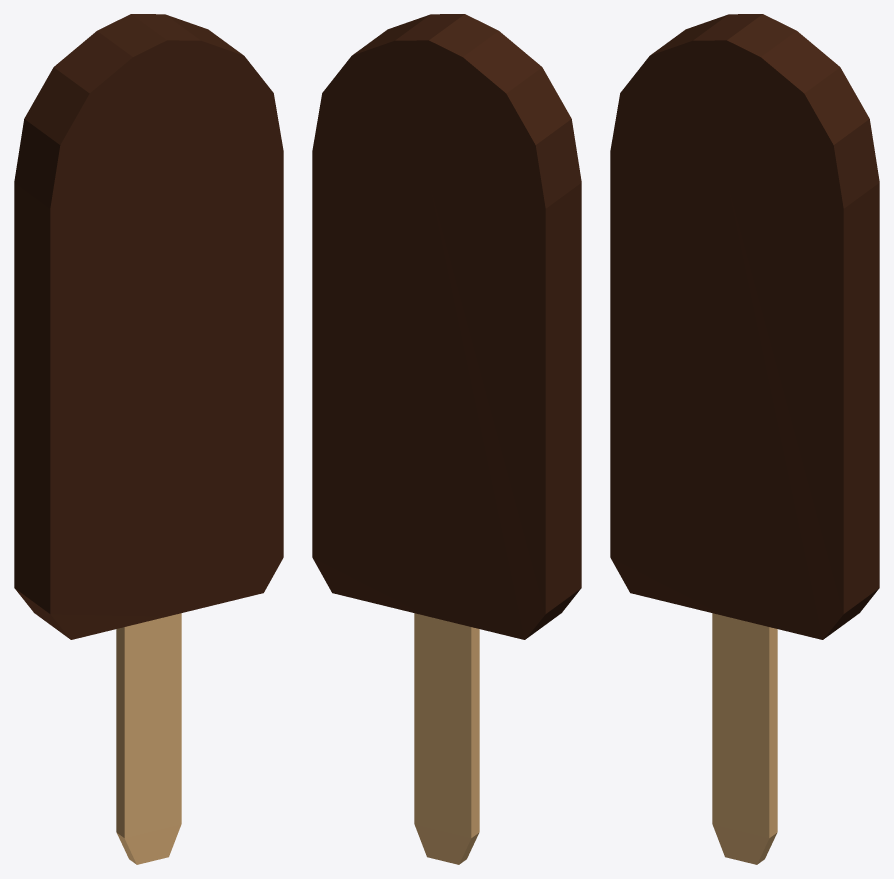
Rendered from Popsicle_Chocolate.obj.
The picture shows the model from 3 angles, left to right: view 1: azimuth 30°, elevation 25°; view 2: azimuth 150°, elevation 25°; view 3: azimuth 330°, elevation 25°; orthographic projection.
Parts seen in each view (by area): view 1: Popsicle_Chocolate_DarkBrown, Popsicle_Chocolate_Light; view 2: Popsicle_Chocolate_DarkBrown, Popsicle_Chocolate_Light; view 3: Popsicle_Chocolate_DarkBrown, Popsicle_Chocolate_Light.
Boxes of the visible parts, <box> form: Popsicle_Chocolate_DarkBrown: <box>14,14,283,639</box>; Popsicle_Chocolate_Light: <box>116,613,181,864</box>; Popsicle_Chocolate_DarkBrown: <box>312,14,581,639</box>; Popsicle_Chocolate_Light: <box>414,613,479,864</box>; Popsicle_Chocolate_DarkBrown: <box>610,14,879,639</box>; Popsicle_Chocolate_Light: <box>712,613,777,864</box>.
Bounding box in the file's own units: 0.2911 × 0.99 × 0.0798.
